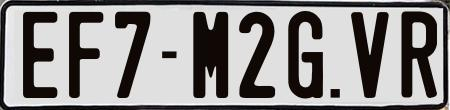2: (238, 10, 274, 101)
7: (115, 10, 151, 96)
E: (20, 12, 55, 98)
F: (68, 12, 108, 104)
G: (287, 8, 322, 99)
M: (192, 10, 228, 99)
R: (400, 8, 437, 100)
V: (350, 12, 392, 98)
